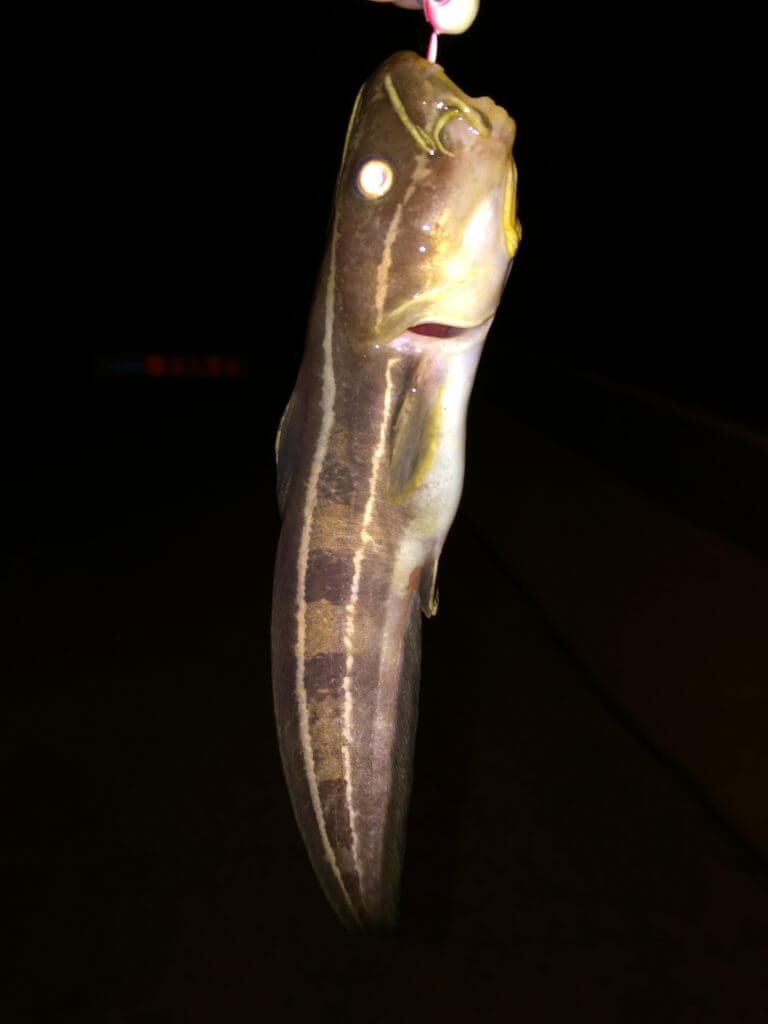gonzui: (209, 35, 576, 970)
